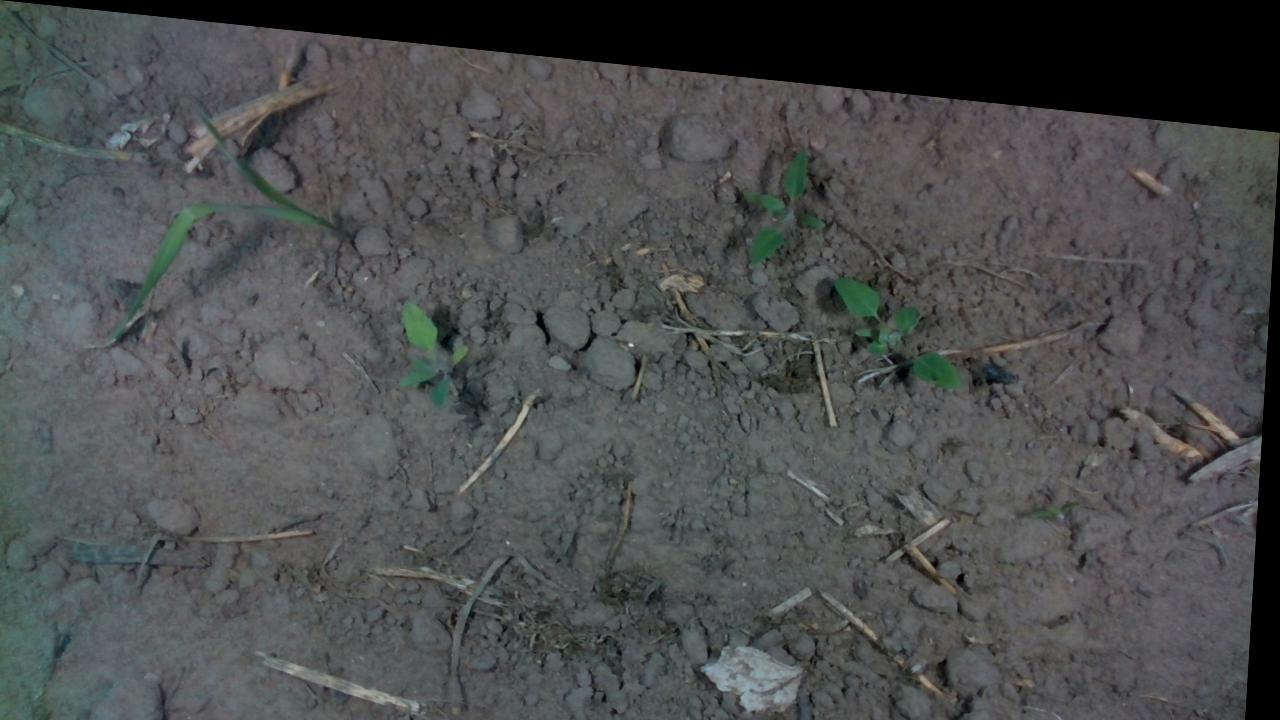weed: (828, 252, 968, 371), (745, 125, 832, 252), (396, 288, 477, 396), (1031, 470, 1087, 499)
